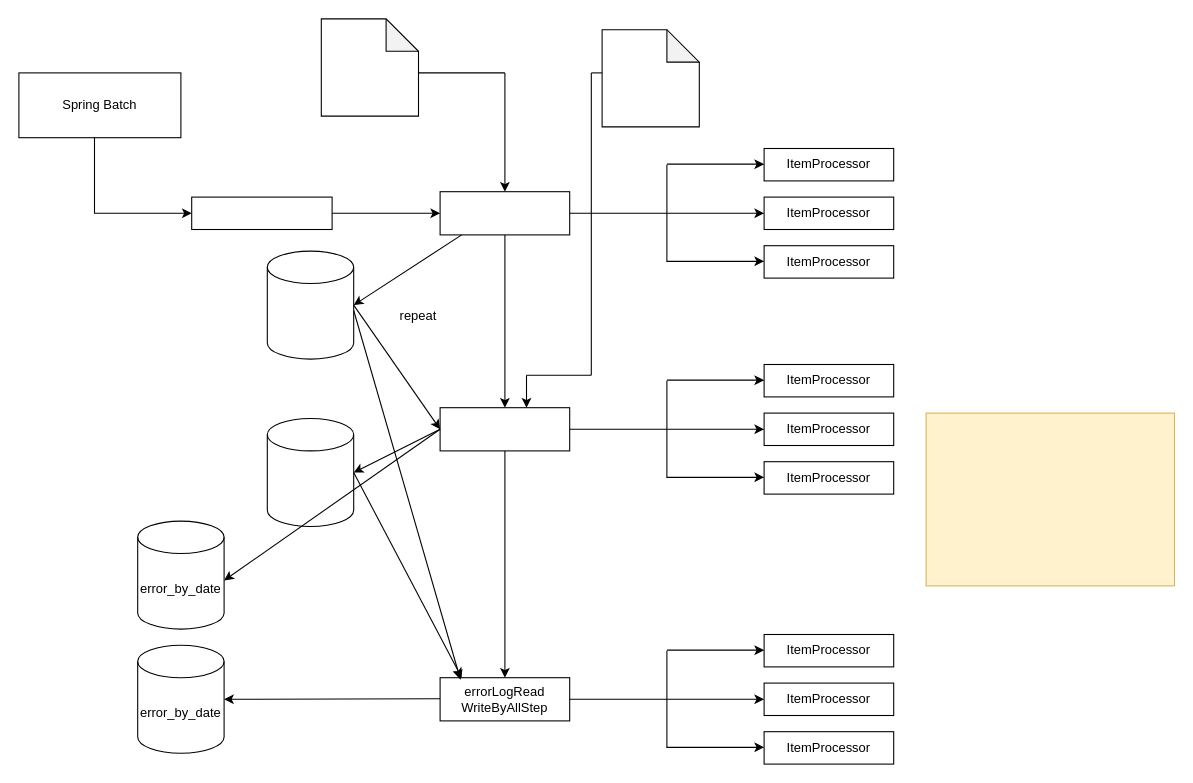
Image size: 1193x783. Some labels were removed from this diagram. Each missing label, with the box of its shape:
cardCompany: (266, 250, 354, 359)
Cardcompany data.csv: (320, 18, 418, 116)
cardCompanyFile ReadWriteStep: (439, 191, 570, 235)
errorLogReadWriteJob: (191, 196, 332, 230)
payment: (266, 417, 354, 526)
Payment data.csv: (601, 29, 699, 127)
paymentFileRead DateConfirmStep: (439, 407, 570, 451)
